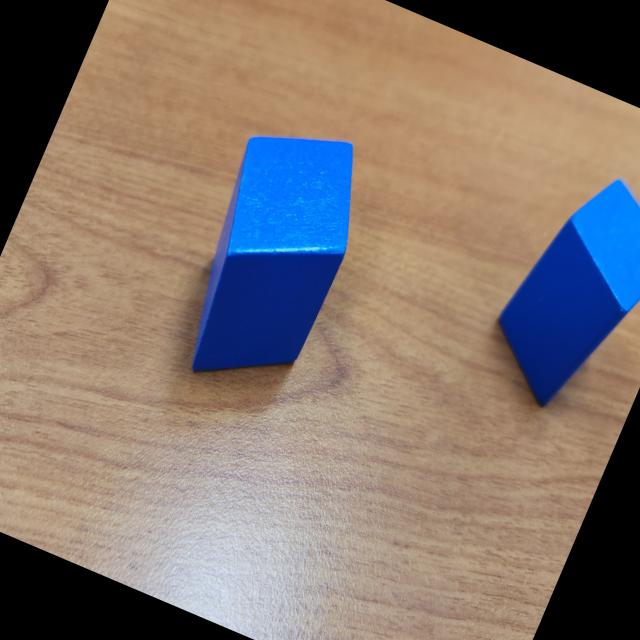blue: (156, 104, 387, 408), (471, 154, 640, 433)
